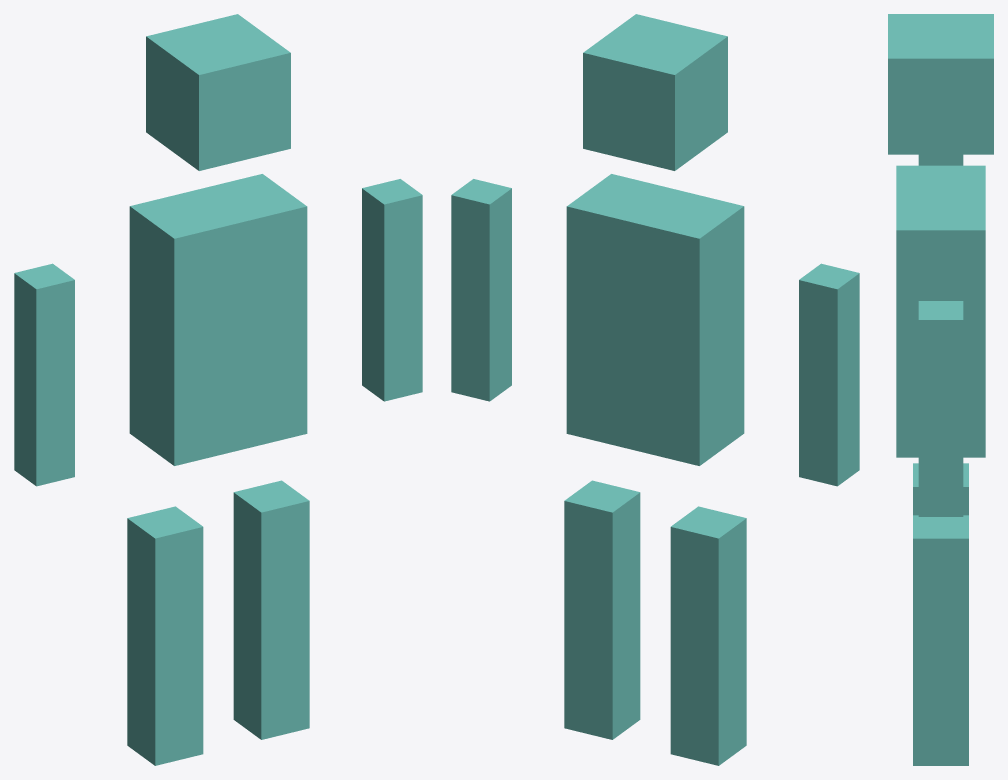
Rendered from default-humanoid.glb.
3 renders of one model, left to right at view 1: azimuth 30°, elevation 25°; view 2: azimuth 150°, elevation 25°; view 3: azimuth 270°, elevation 25°, orthographic.
Parts seen in each view (by area): view 1: Torso, Right Leg, Left Leg, Head, Left Arm, Right Arm; view 2: Torso, Right Leg, Left Leg, Head, Left Arm, Right Arm; view 3: Torso, Head, Right Leg, Right Arm, Left Leg, Left Arm.
Boxes of the visible parts, box(x1,y1,x2,y2) form: Torso: box(129, 174, 307, 465); Right Leg: box(233, 480, 309, 739); Left Leg: box(127, 506, 203, 765); Head: box(146, 14, 290, 170); Left Arm: box(14, 263, 74, 486); Right Arm: box(362, 179, 422, 401); Torso: box(566, 174, 744, 465); Right Leg: box(564, 480, 640, 739); Left Leg: box(670, 506, 746, 765); Head: box(583, 14, 727, 170); Left Arm: box(799, 263, 859, 486); Right Arm: box(451, 179, 511, 401); Torso: box(896, 165, 985, 457); Head: box(888, 14, 993, 154); Right Leg: box(913, 515, 968, 765); Right Arm: box(918, 301, 963, 516); Left Leg: box(913, 463, 968, 515); Left Arm: box(918, 154, 963, 165).
Bounding box in the file's own units: 1.6 × 2.74 × 0.38.
